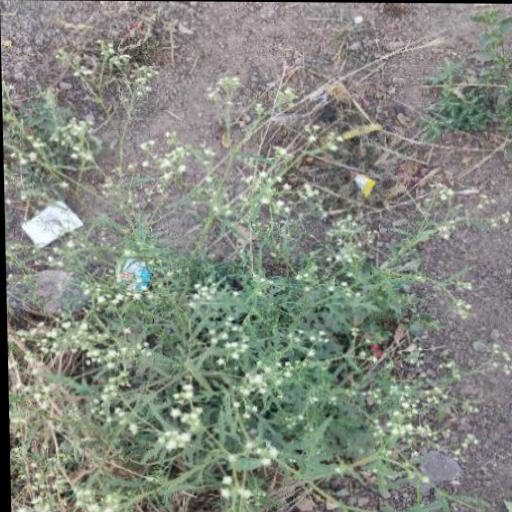weed: (5, 269, 409, 512)
